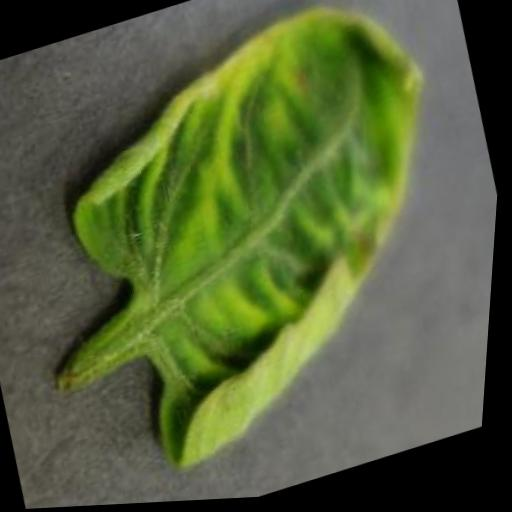Yellow Leaf Curl Virus: (25, 0, 512, 488)
